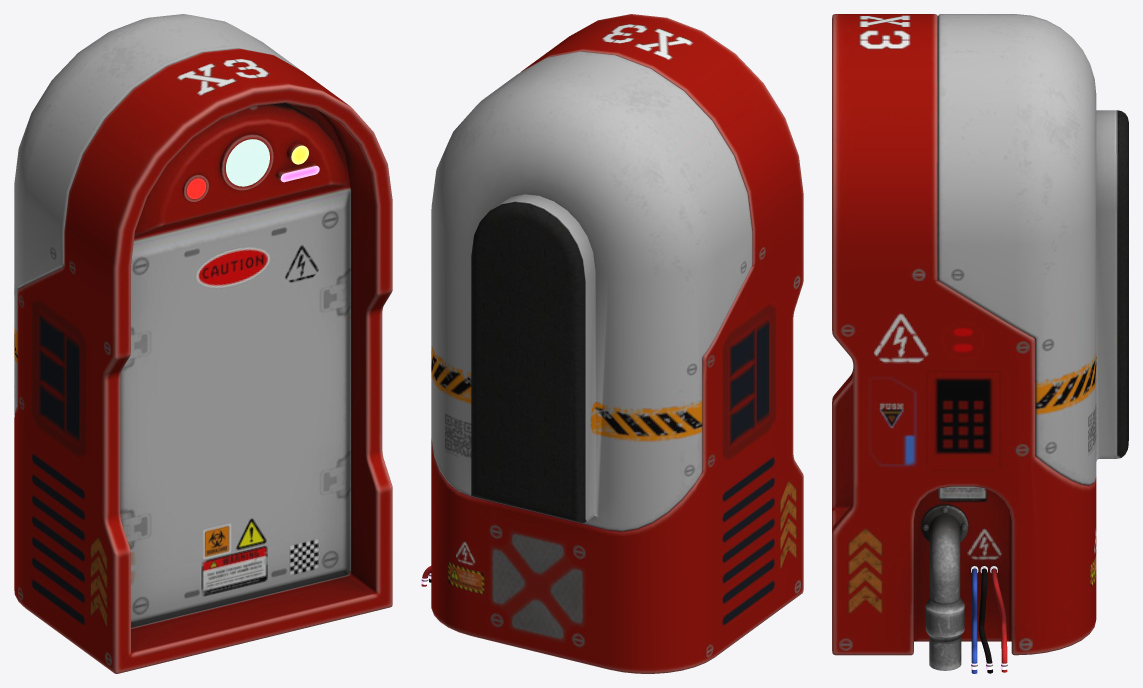
File: distributore_futuristico.glb
3 renders of one model, left to right at view 1: azimuth 30°, elevation 25°; view 2: azimuth 150°, elevation 25°; view 3: azimuth 270°, elevation 25°, orthographic. The views are drawn at different scales.
Visible parts, largest first — view 1: Object_14, Object_12, Object_10; view 2: Object_14, Object_13; view 3: Object_14, Object_2, Object_13, Object_7, Object_6, Object_5.
Part boxes in pixels (x1,y1,x2,y2): Object_14: (14, 14, 392, 673); Object_12: (120, 188, 350, 628); Object_10: (226, 139, 269, 186); Object_14: (431, 14, 803, 673); Object_13: (471, 201, 586, 523); Object_14: (832, 14, 1120, 655); Object_2: (922, 504, 968, 670); Object_13: (1117, 110, 1128, 457); Object_7: (971, 568, 977, 673); Object_6: (978, 568, 992, 673); Object_5: (991, 568, 1007, 672).
Size of the model in its own units: 0.1868 by 0.3235 by 0.1542.
Materials: 13 (13 with a texture image).
